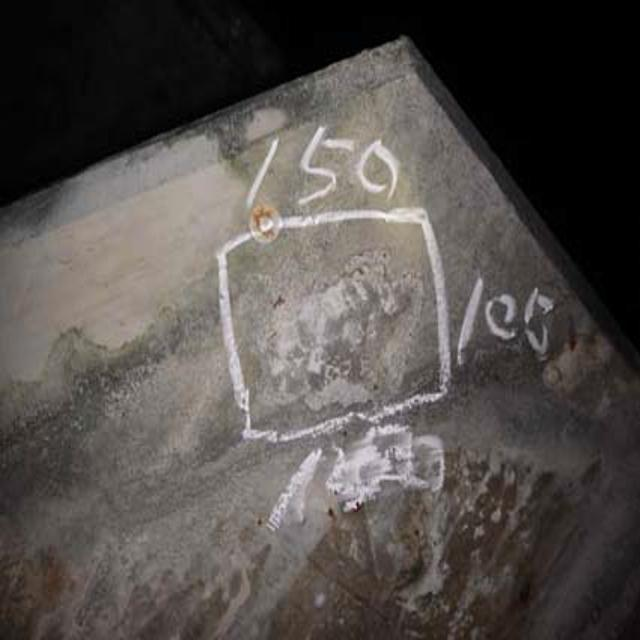spalling: (274, 274, 399, 396)
